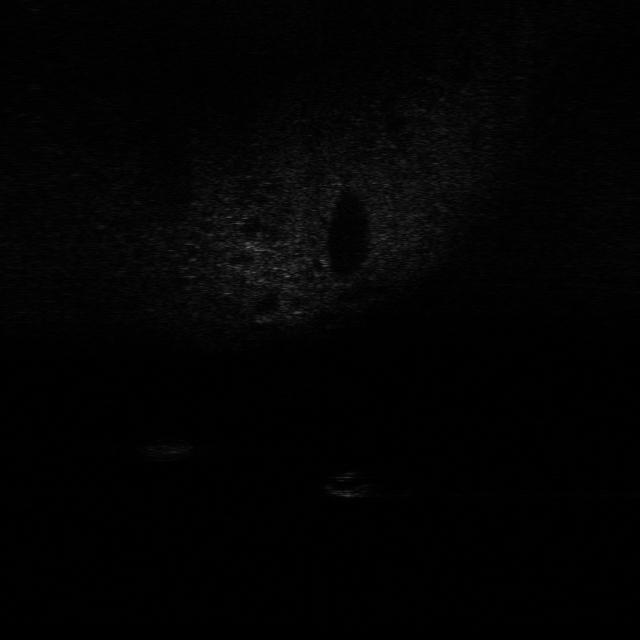ball: (321, 465, 382, 499)
circle cage: (138, 425, 202, 460)
